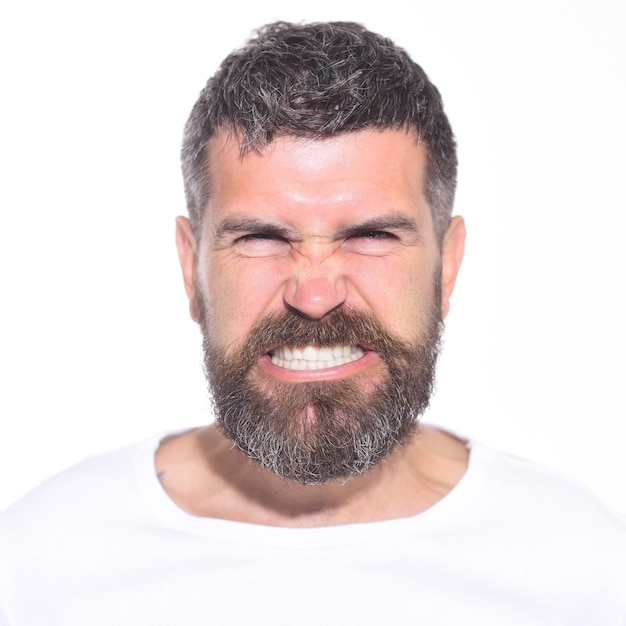young: (167, 20, 483, 488)
